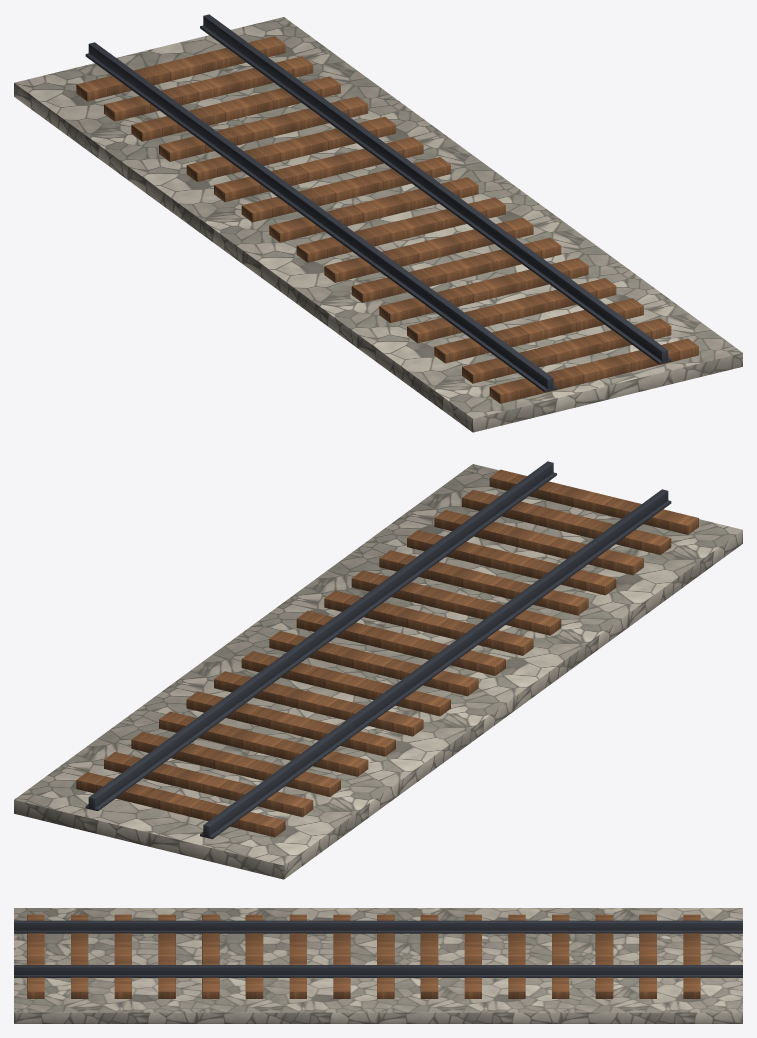
File: rails.glb
3 views of the same model, one above another, from view 1: azimuth 30°, elevation 25°; view 2: azimuth 150°, elevation 25°; view 3: azimuth 270°, elevation 25° (orthographic). The views are drawn at different scales.
Parts seen in each view (by area): view 1: rails; view 2: rails; view 3: rails.
Boxes of the visible parts, x1,y1,x2,y2 form: rails: [14, 14, 742, 432]; rails: [14, 461, 742, 879]; rails: [14, 908, 742, 1023].
Size of the model in its own units: 3.4 by 0.42 by 10.
3 materials, 3 textured.
